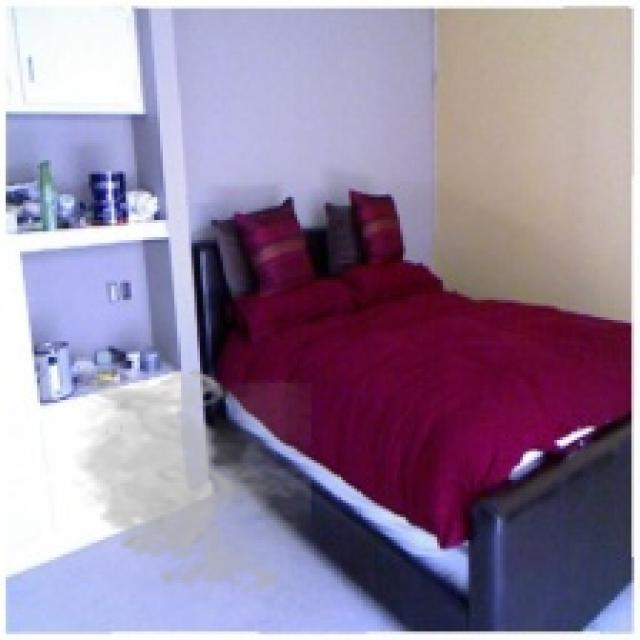Smoke: (71, 366, 312, 600)
